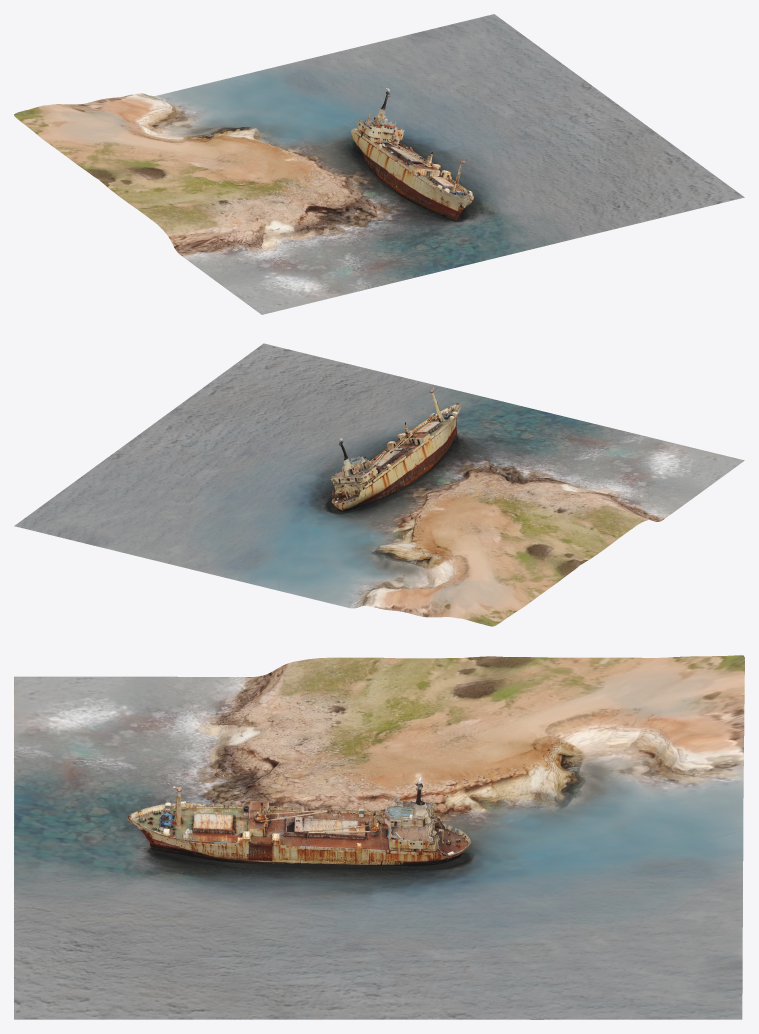
Rendered from broken_shell.glb.
3 renders of one model, top to bottom at view 1: azimuth 30°, elevation 25°; view 2: azimuth 150°, elevation 25°; view 3: azimuth 270°, elevation 25°, orthographic. The views are drawn at different scales.
Visible parts, largest first — view 1: Sea, Ship; view 2: Sea, Ship; view 3: Sea, Ship.
Boxes of the visible parts, x1,y1,x2,y2 form: Sea: [14, 14, 744, 314]; Ship: [351, 88, 473, 221]; Sea: [14, 343, 744, 626]; Ship: [330, 388, 460, 511]; Sea: [14, 655, 744, 1019]; Ship: [127, 777, 471, 866].
Size of the model in its own units: 3911 by 530 by 3527.
Materials: 2 (2 with a texture image).
